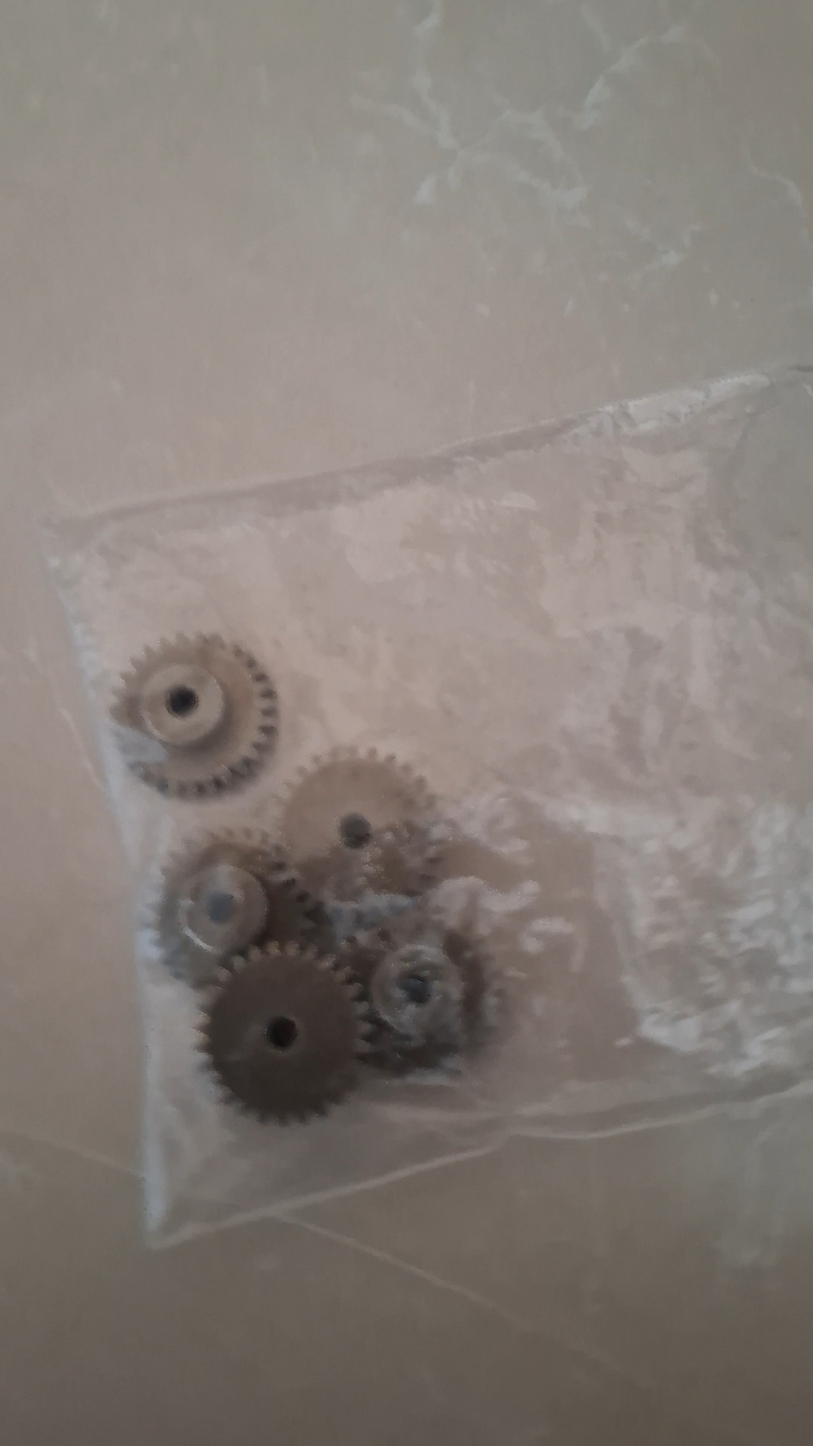spur gear: (200, 945, 366, 1123), (111, 635, 277, 798), (152, 830, 315, 987), (340, 914, 495, 1074), (279, 749, 440, 901)
